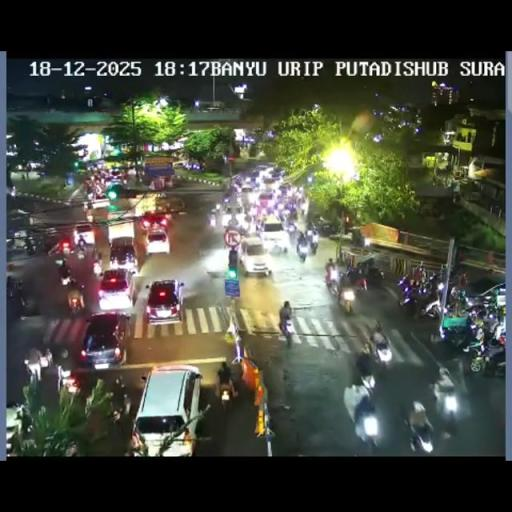Car: (131, 364, 202, 455), (78, 312, 128, 367), (146, 278, 184, 324), (98, 270, 136, 312), (238, 237, 271, 276), (259, 215, 289, 253), (5, 404, 25, 453), (109, 238, 137, 270), (146, 226, 170, 254), (154, 194, 186, 213), (140, 211, 170, 231), (311, 215, 337, 237), (234, 167, 260, 188), (73, 222, 95, 246), (90, 192, 110, 210), (258, 190, 274, 208), (106, 182, 122, 200), (266, 169, 284, 184), (172, 160, 189, 169), (241, 184, 253, 194)
Motorcycle: (468, 328, 504, 374), (438, 314, 478, 355), (398, 274, 437, 316), (355, 406, 382, 450), (406, 413, 435, 453), (435, 395, 459, 440), (110, 400, 131, 436), (434, 364, 455, 398), (372, 334, 393, 367), (217, 376, 236, 411), (337, 281, 357, 313), (59, 366, 79, 394), (66, 284, 84, 314), (462, 301, 489, 321), (358, 366, 377, 394), (24, 353, 42, 381), (449, 284, 469, 309), (278, 316, 294, 346), (6, 276, 24, 302), (126, 428, 144, 454), (324, 270, 339, 298), (234, 218, 251, 237), (354, 271, 368, 293), (346, 225, 364, 242), (58, 268, 73, 286), (454, 270, 468, 288), (296, 242, 308, 262), (42, 348, 53, 369), (277, 208, 290, 225), (344, 260, 355, 279), (76, 242, 87, 260), (309, 234, 318, 256), (24, 240, 37, 255), (92, 257, 102, 276), (284, 220, 297, 234), (84, 204, 94, 222), (249, 206, 260, 222), (254, 218, 266, 232), (61, 239, 71, 255), (54, 255, 65, 267), (85, 181, 92, 196), (222, 194, 230, 206), (8, 186, 16, 198), (300, 203, 306, 218), (210, 214, 216, 228), (20, 173, 26, 180)
